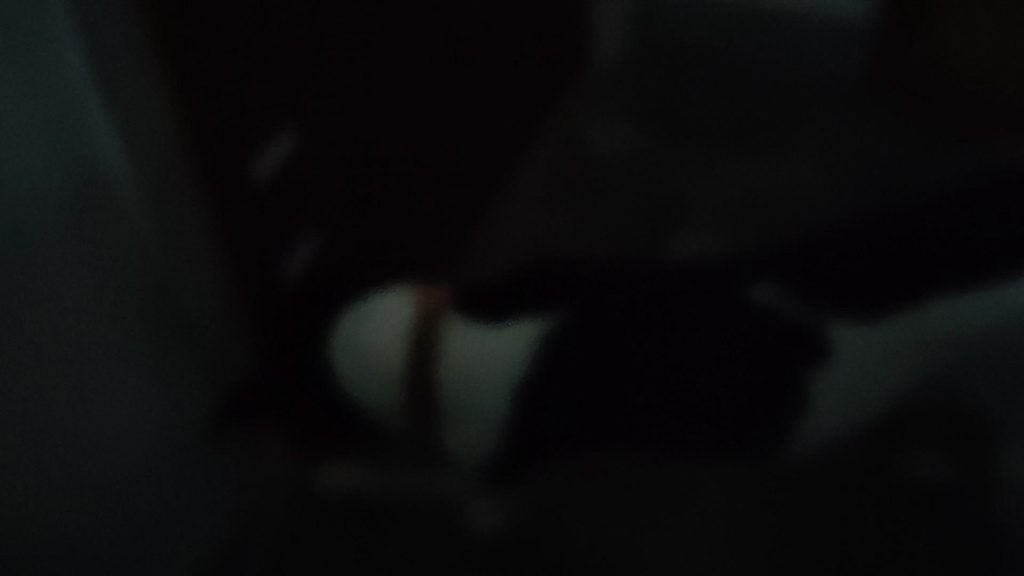Dog: (243, 109, 1024, 576)
